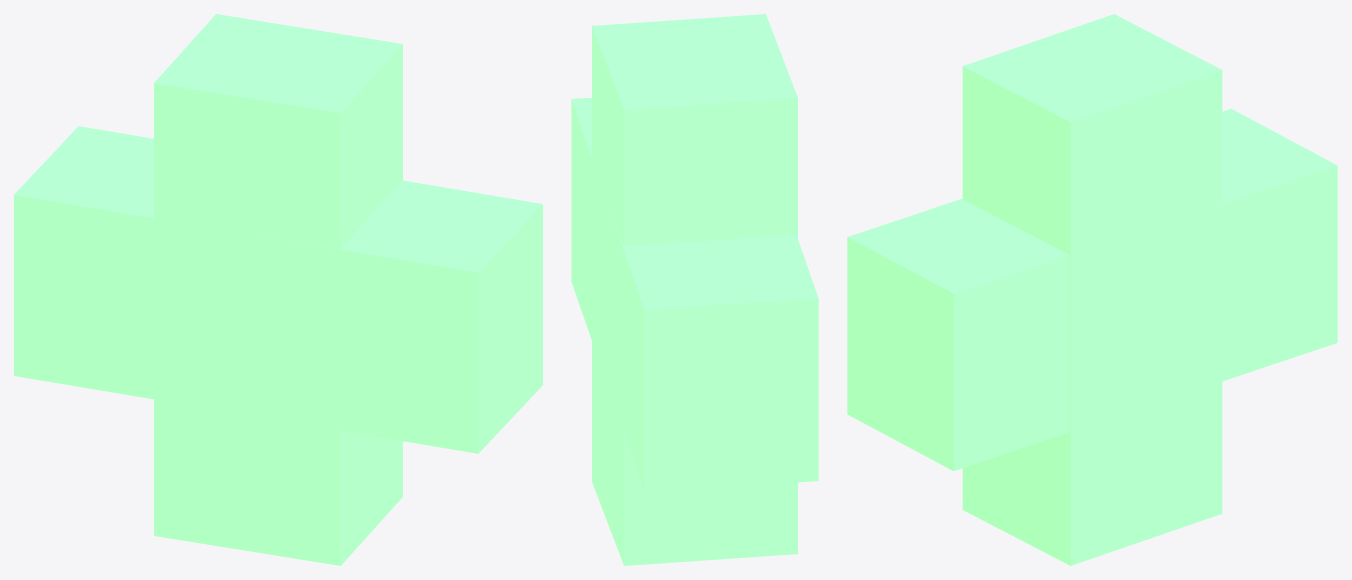
Rendered from healthpack.fbx.
3 renders of one model, left to right at view 1: azimuth 30°, elevation 25°; view 2: azimuth 150°, elevation 25°; view 3: azimuth 270°, elevation 25°, orthographic. The views are drawn at different scales.
Visible parts, largest first — view 1: healthpack; view 2: healthpack; view 3: healthpack.
Part boxes in pixels (left/top/right/bottom): healthpack: left=14, top=14, right=542, bottom=565; healthpack: left=571, top=14, right=818, bottom=565; healthpack: left=847, top=14, right=1337, bottom=565.
Bounding box in the file's own units: 358 × 400 × 401.
